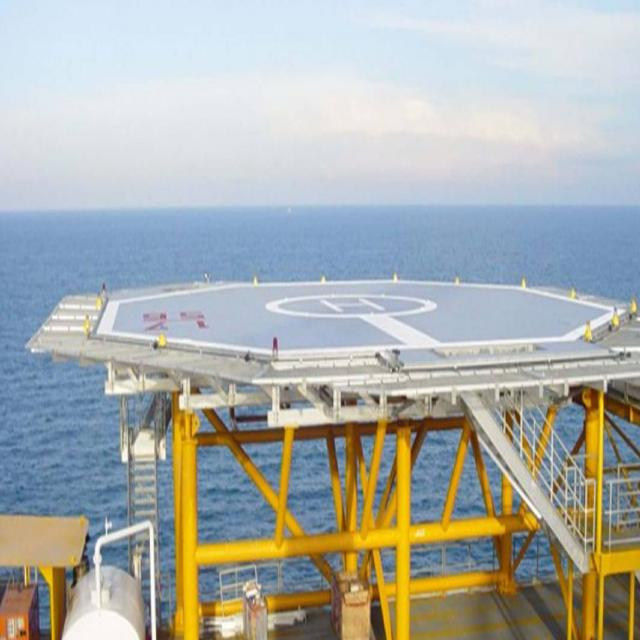helipad: (262, 287, 438, 319)
